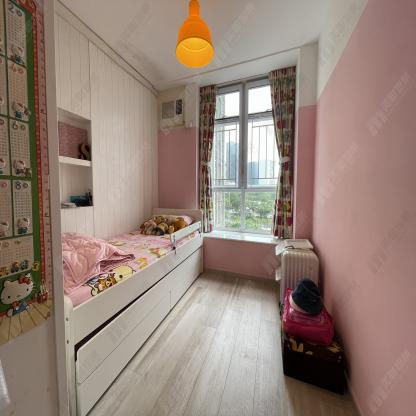AC: (160, 98, 184, 128)
Bed: (62, 191, 205, 354)
Windowsill: (201, 65, 298, 246)
